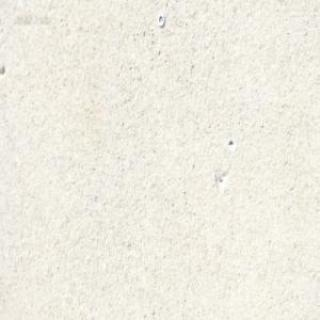Washertrack_idkeyframe: (156, 12, 164, 26)
